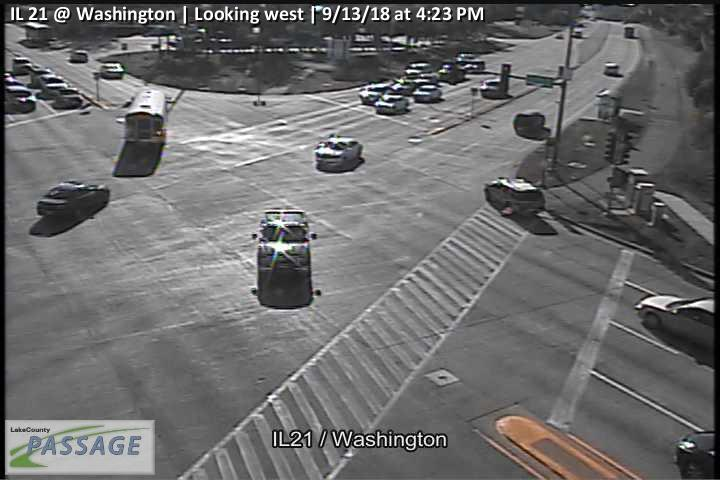Sedan: (251, 205, 318, 277), (37, 180, 111, 221), (484, 175, 546, 216), (314, 133, 363, 169), (4, 83, 38, 116), (37, 72, 69, 94), (375, 94, 410, 114), (53, 85, 84, 106), (411, 84, 443, 101), (97, 60, 124, 80), (29, 65, 54, 83)
Truck: (124, 88, 166, 141)
